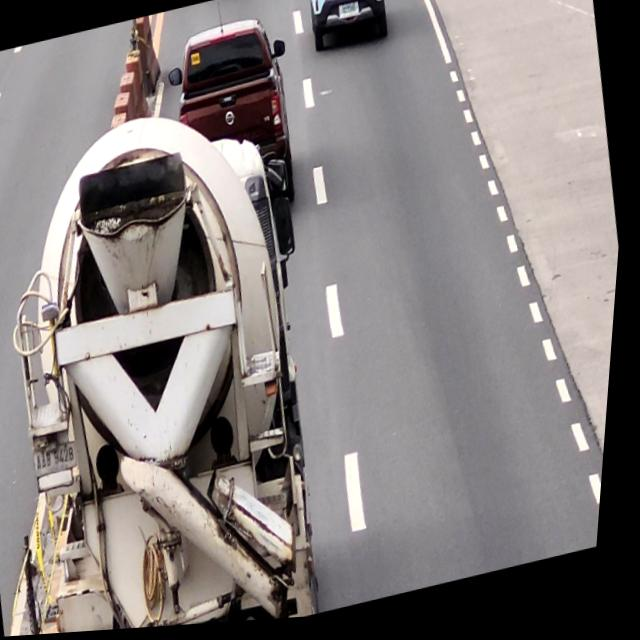Car: (154, 11, 315, 236), (302, 0, 393, 54)
License-Plate: (38, 442, 87, 478), (337, 6, 360, 25)
Truck: (0, 81, 375, 640)
